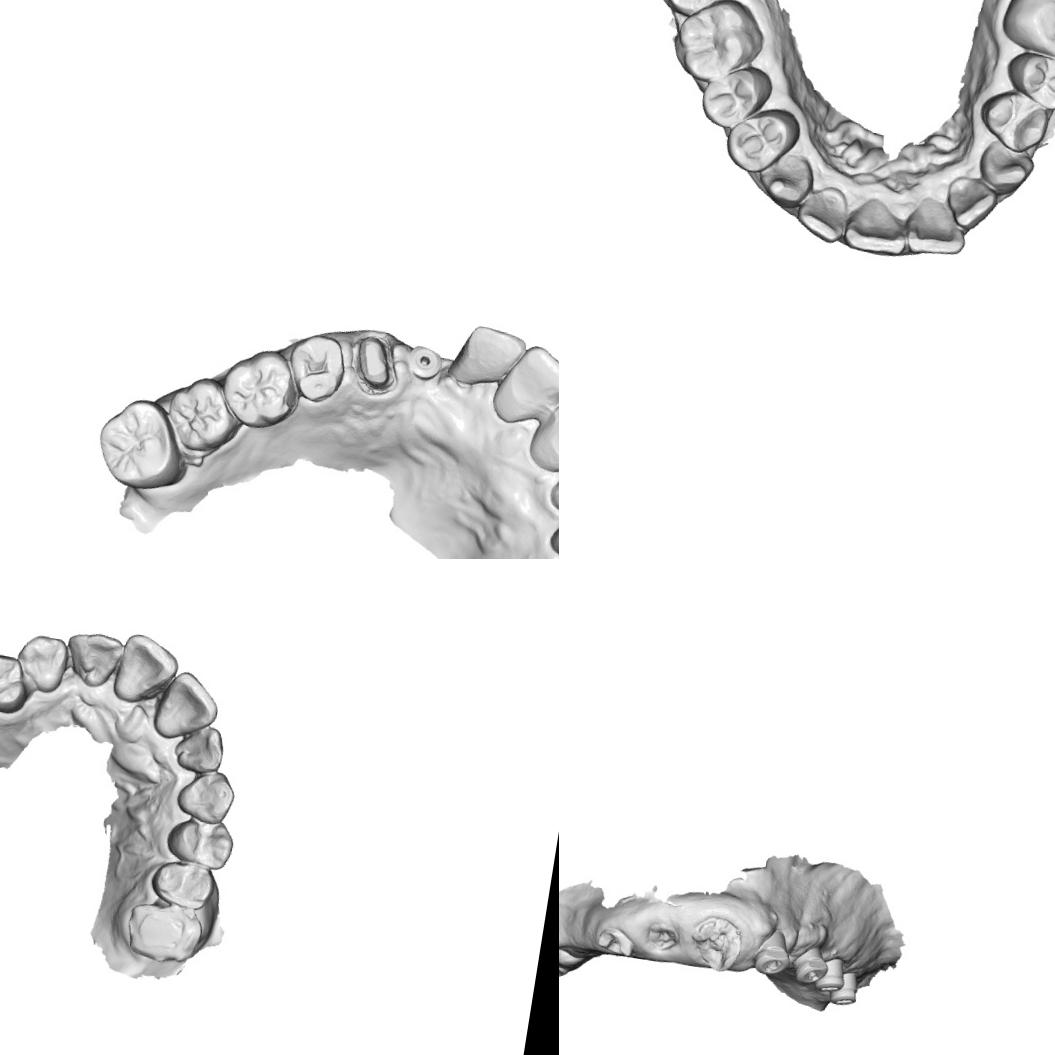canine: (974, 136, 1039, 201), (172, 766, 238, 828), (13, 630, 71, 694), (756, 150, 819, 208)
crown: (344, 324, 406, 398)
implant: (404, 339, 448, 388)
implant_minus: (750, 938, 793, 979), (792, 945, 831, 987), (813, 954, 849, 996), (829, 970, 861, 1008)
incisor: (486, 338, 559, 434), (446, 316, 530, 396), (150, 667, 224, 746), (112, 630, 184, 708), (839, 189, 915, 260), (902, 190, 974, 259), (792, 178, 854, 248), (939, 172, 1002, 236), (60, 628, 122, 691), (170, 720, 229, 778), (523, 386, 559, 479)
molar: (89, 392, 194, 497), (667, 0, 770, 95), (214, 342, 304, 435), (161, 370, 244, 456), (120, 896, 208, 969), (993, 0, 1055, 70), (646, 0, 746, 24)
premolar: (720, 99, 804, 182), (693, 57, 772, 134), (975, 84, 1055, 160), (282, 328, 350, 406), (162, 811, 238, 873), (148, 855, 218, 912), (1000, 47, 1055, 115), (0, 648, 34, 718)
